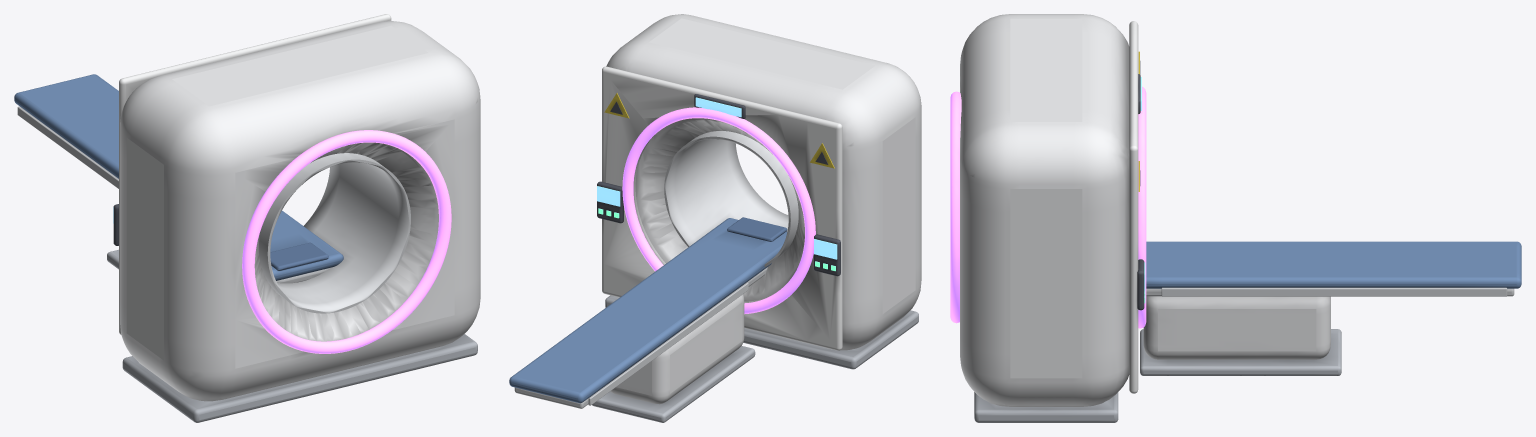
The model's file is mri_scanner.glb.
3 views of the same model, side by side, from view 1: azimuth 30°, elevation 25°; view 2: azimuth 150°, elevation 25°; view 3: azimuth 270°, elevation 25° (orthographic). The views are drawn at different scales.
Visible parts, largest first — view 1: magnet, bore_liner, ring.001, table_cushion, magnet_base, front_cover, side_rail_-1, table_head; view 2: magnet, front_cover, table_cushion, bore_liner, table_column, ring, magnet_base, table_foot, side_rail_-1, table_head, panel_-1, panel_1 (+3 smaller); view 3: magnet, table_cushion, table_column, table_foot, front_cover, side_rail_1, magnet_base, ring.001, ring.
Boxes of the visible parts, x1,y1,x2,y2 form: magnet: [120, 21, 480, 401]; bore_liner: [259, 153, 410, 313]; ring.001: [242, 130, 451, 353]; table_cushion: [14, 74, 343, 280]; magnet_base: [122, 334, 477, 422]; front_cover: [119, 14, 391, 334]; side_rail_-1: [17, 106, 118, 188]; table_head: [270, 242, 328, 270]; magnet: [606, 14, 921, 350]; front_cover: [602, 66, 842, 350]; table_cushion: [509, 218, 787, 403]; bore_liner: [664, 131, 798, 266]; table_column: [610, 294, 744, 404]; ring: [622, 107, 815, 314]; magnet_base: [605, 295, 918, 369]; table_foot: [592, 346, 755, 422]; side_rail_-1: [588, 282, 748, 405]; table_head: [727, 217, 787, 241]; panel_-1: [814, 234, 840, 276]; panel_1: [597, 181, 623, 223]; magnet: [960, 14, 1129, 406]; table_cushion: [1146, 241, 1521, 288]; table_column: [1143, 296, 1330, 359]; table_foot: [1140, 329, 1341, 375]; front_cover: [1129, 21, 1138, 393]; side_rail_1: [1161, 287, 1507, 296]; magnet_base: [974, 392, 1118, 422]; ring.001: [950, 91, 961, 323]; ring: [1138, 86, 1146, 328].
Bounding box in the file's own units: 96 × 88 × 159.
